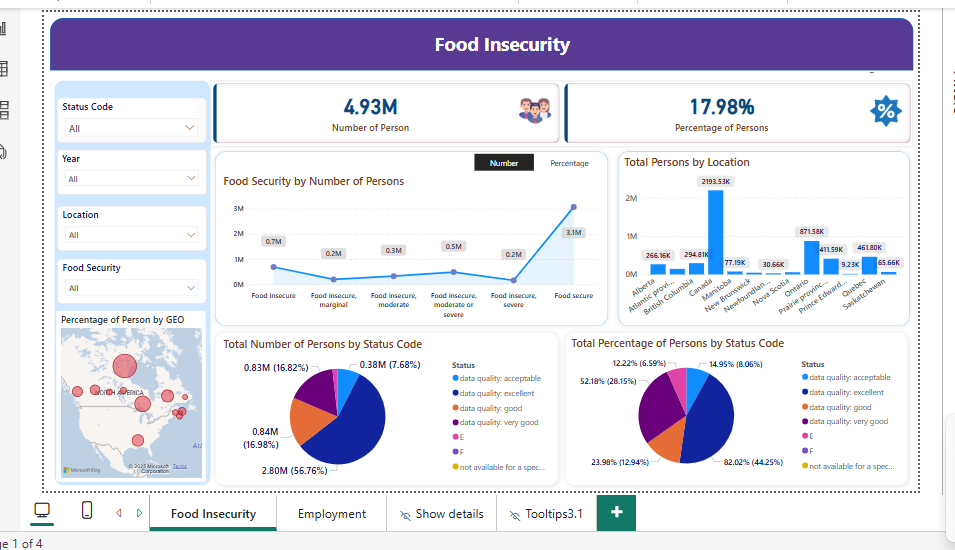

This screenshot's page, from the dashboard's own definition file:
{"tool":"powerbi","page":{"name":"Food Insecurity","canvas":[1500,820],"ordinal":0},"visuals":[{"type":"shape","box":[10,10,1480,90],"z":0,"group":"g2"},{"type":"shape","box":[16.7,116.7,268.3,695],"z":0,"group":"g1"},{"type":"shape","box":[975.6,230,516.7,315.6],"z":0},{"type":"textbox","box":[543.3,28.3,483.3,56.7],"z":1000,"group":"g2"},{"type":"shape","box":[285,540,605,280],"z":1000},{"type":"shape","box":[285,230,690,315],"z":2000},{"type":"shape","box":[885,540,605,280],"z":3000},{"type":"pieChart","title":"Total Number of Persons by Status  Code","fields":{"Y":["13100835.Number of Person"],"Series":["Status.Status"]},"box":[302.2,555.6,571.1,250],"z":4000},{"type":"slicer","title":"Year","fields":{"Values":["13100835.REF_DATE"]},"box":[21.5,236,255.6,77.8],"z":5000,"group":"g3"},{"type":"pieChart","title":"Total Percentage of Persons by Status Code","fields":{"Y":["13100835.Percentage of Person"],"Series":["Status.Status"]},"box":[898.3,555,575,250],"z":5000},{"type":"cardVisual","fields":{"Data":["13100835.Number of Person","13100835.Percentage of Person"]},"box":[285.6,116.7,1206.7,113.3],"z":6000},{"type":"slicer","title":"Status Code","fields":{"Values":["Status.Status"]},"box":[21.5,146,255.6,77.8],"z":6000,"group":"g3"},{"type":"group","id":"g1","title":"Group 3","box":[16.7,116.7,268.3,695],"z":7000},{"type":"slicer","title":"Location","fields":{"Values":["13100835.GEO"]},"box":[21.5,330.5,255.6,77.8],"z":7000,"group":"g3"},{"type":"slicer","title":"Food Security","fields":{"Values":["13100835.Household food security status"]},"box":[21.5,421.5,255.6,77.8],"z":7000,"group":"g4"},{"type":"map","title":"Percentage of Person by GEO","fields":{"Category":["13100835.GEO"],"Size":["13100835.Number of Person"]},"box":[21.1,512.2,255.6,293.3],"z":8000},{"type":"group","id":"g2","title":"Group 5","box":[10,10,1480,90],"z":9000},{"type":"bookmarkNavigator","box":[737.8,243.3,214.4,30],"z":10000},{"type":"areaChart","title":"Food Security by Number of Persons","fields":{"Category":["13100835.Household food security status"],"Y":["13100835.Number of Person"]},"box":[302.2,276.7,658.9,257.8],"z":11000},{"type":"group","id":"g3","title":"Group 1","box":[21.5,146,255.6,262.3],"z":12000,"group":"g4"},{"type":"group","id":"g4","title":"Group 2","box":[21.5,146,255.6,353.3],"z":13000,"group":"g1"},{"type":"columnChart","title":"Total Persons by Location","fields":{"Category":["13100835.GEO"],"Y":["13100835.Number of Person"]},"box":[990,243.3,490,290],"z":13000}]}

Visuals, with their boxes on the page's 1500x820 design canvas (x1, y1, x2, y2). These are canvas units, not pixel positions in the 955x550 screenshot, which may show the page scaled, cropped or inside an application window:
shape: region(10, 10, 1490, 100)
shape: region(17, 117, 285, 812)
shape: region(976, 230, 1492, 546)
textbox: region(543, 28, 1027, 85)
shape: region(285, 540, 890, 820)
shape: region(285, 230, 975, 545)
shape: region(885, 540, 1490, 820)
"Total Number of Persons by Status  Code" pieChart: region(302, 556, 873, 806)
"Year" slicer: region(22, 236, 277, 314)
"Total Percentage of Persons by Status Code" pieChart: region(898, 555, 1473, 805)
cardVisual - 13100835.Number of Person x 13100835.Percentage of Person: region(286, 117, 1492, 230)
"Status Code" slicer: region(22, 146, 277, 224)
"Group 3" group: region(17, 117, 285, 812)
"Location" slicer: region(22, 330, 277, 408)
"Food Security" slicer: region(22, 422, 277, 499)
"Percentage of Person by GEO" map: region(21, 512, 277, 806)
"Group 5" group: region(10, 10, 1490, 100)
bookmarkNavigator: region(738, 243, 952, 273)
"Food Security by Number of Persons" areaChart: region(302, 277, 961, 534)
"Group 1" group: region(22, 146, 277, 408)
"Group 2" group: region(22, 146, 277, 499)
"Total Persons by Location" columnChart: region(990, 243, 1480, 533)
